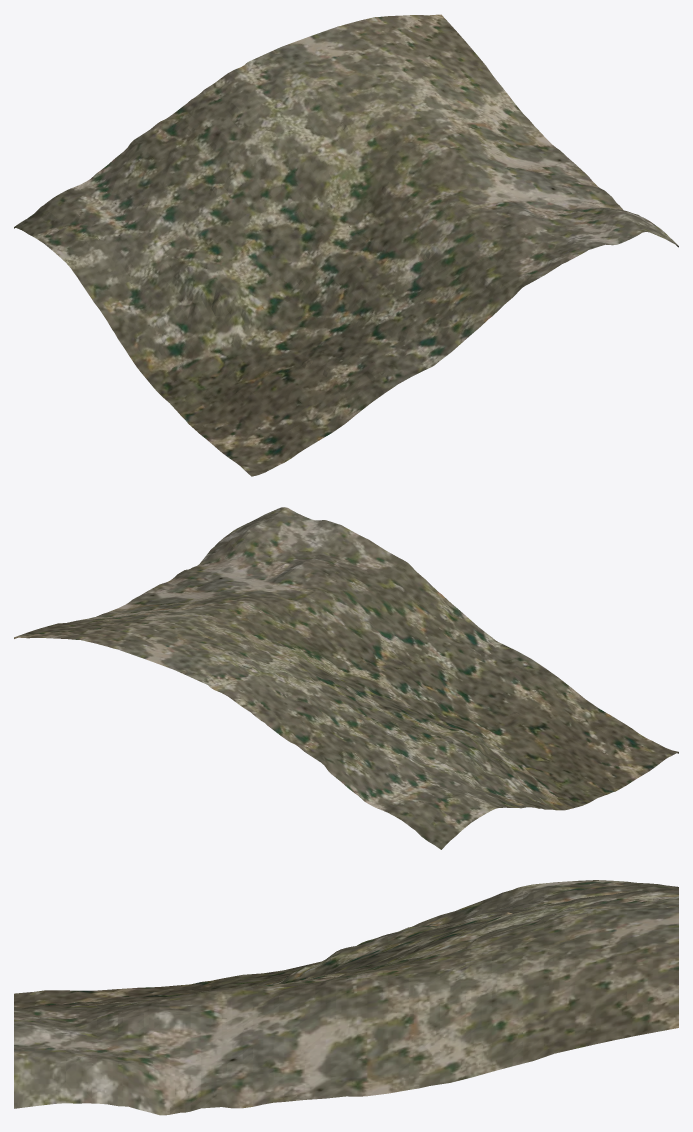
3 renders of one model, top to bottom at view 1: azimuth 30°, elevation 25°; view 2: azimuth 150°, elevation 25°; view 3: azimuth 270°, elevation 25°, orthographic. The views are drawn at different scales.
Size of the model in its own units: 250 by 112 by 241.
Materials: 1 (1 with a texture image).
